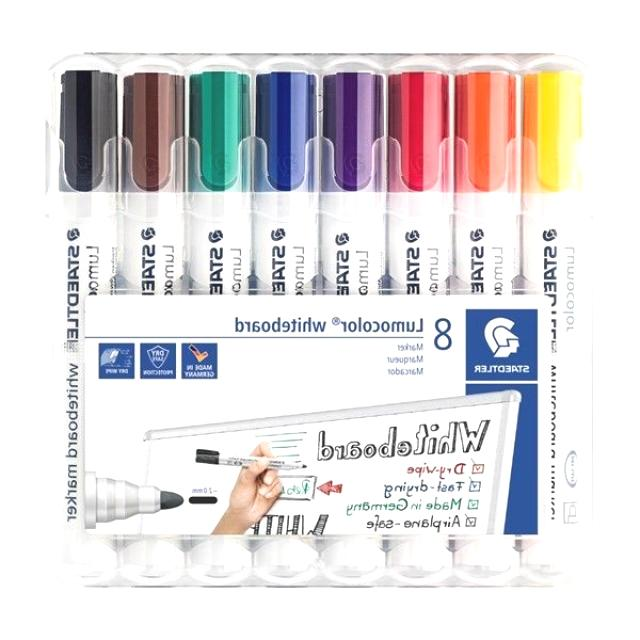B3: (44, 53, 602, 592)
